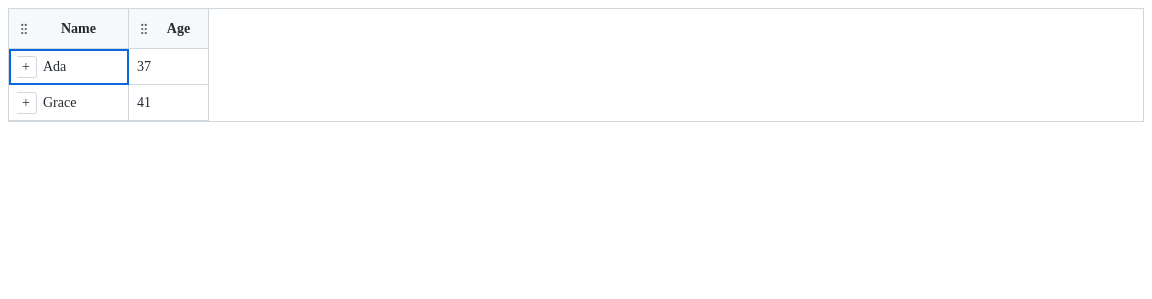
Test: GenDataGrid interaction contract › toggles uncontrolled master-detail rows with the row button
Click the button "+" next to "Ada". click: (26, 66)
box: x1=15 y1=56 x2=37 y2=78
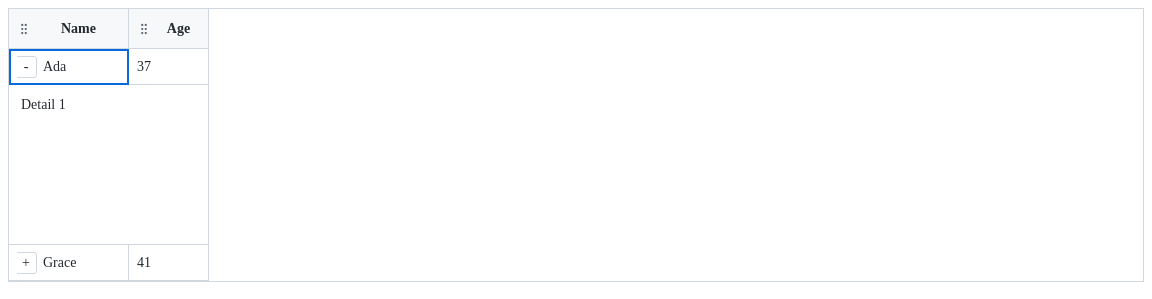
Expected: the text "Detail 1" is shown, x1=21 y1=97 x2=66 y2=112
Expected: the button "-" is expanded
Click the button "-". click: (26, 66)
box: x1=15 y1=56 x2=37 y2=78
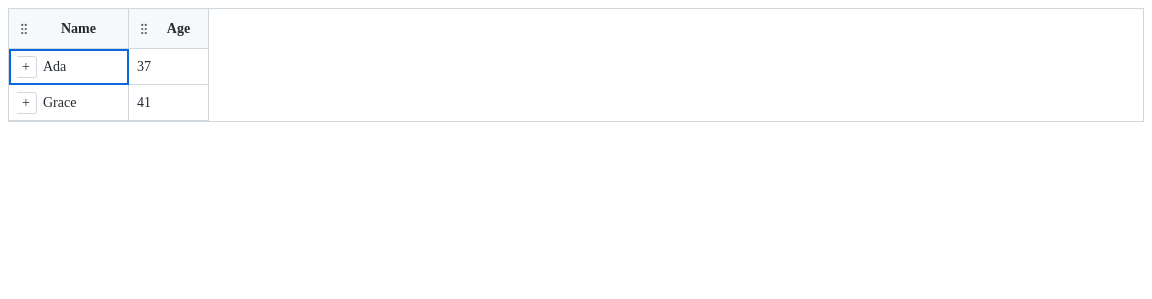
Expected: the text "Detail 1" is gone
Expected: the button "+" next to "Ada" is collapsed, x1=17 y1=56 x2=37 y2=78
